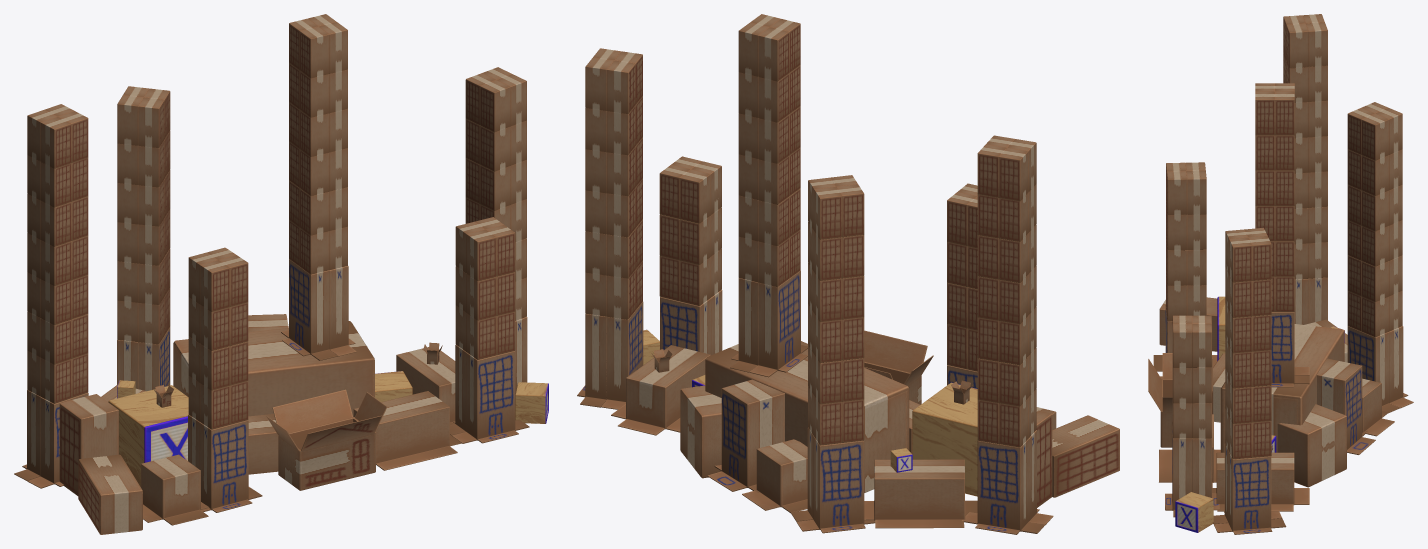
The model's file is S3_revised.fbx.
3 renders of one model, left to right at view 1: azimuth 30°, elevation 25°; view 2: azimuth 150°, elevation 25°; view 3: azimuth 270°, elevation 25°, orthographic. The views are drawn at different scales.
Visible parts, largest first — view 1: Square_Splayed_Box_low; view 2: Square_Splayed_Box_low; view 3: Square_Splayed_Box_low.
Part boxes in pixels (x1,y1,x2,y2): Square_Splayed_Box_low: [14, 14, 548, 534]; Square_Splayed_Box_low: [577, 14, 1119, 534]; Square_Splayed_Box_low: [1148, 14, 1413, 534].
Size of the model in its own units: 12349 by 10189 by 6677.
